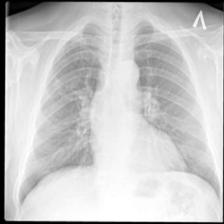tuberculosis: (17, 14, 222, 208)
